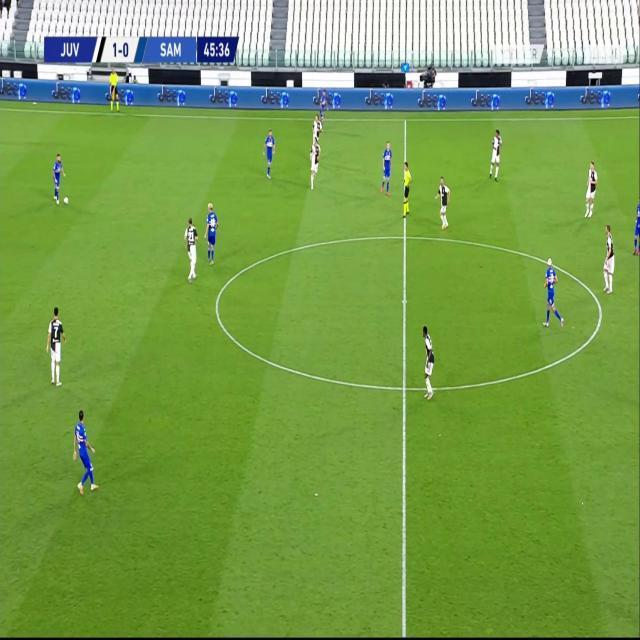ball: (64, 195, 70, 205)
player: (73, 410, 98, 495), (45, 307, 67, 387), (419, 320, 439, 404), (543, 260, 564, 334), (602, 225, 618, 297), (434, 177, 455, 229), (183, 219, 199, 284), (205, 201, 220, 266), (308, 136, 322, 191), (586, 162, 599, 219), (263, 129, 277, 181), (52, 152, 65, 207), (491, 128, 504, 181), (382, 142, 394, 191), (319, 89, 329, 134), (633, 198, 640, 258), (312, 114, 323, 149)
referee: (398, 162, 414, 217), (108, 65, 120, 113)
